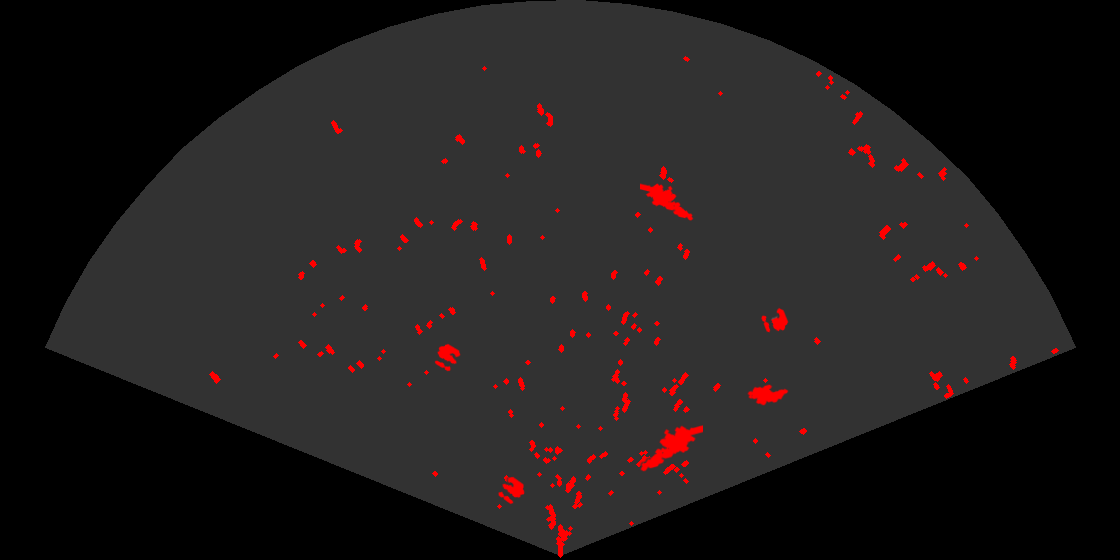AUV: (746, 383, 790, 407)
ball: (433, 342, 462, 373), (497, 475, 526, 506), (760, 306, 790, 334)
frogman: (638, 424, 703, 473), (640, 182, 695, 222)
